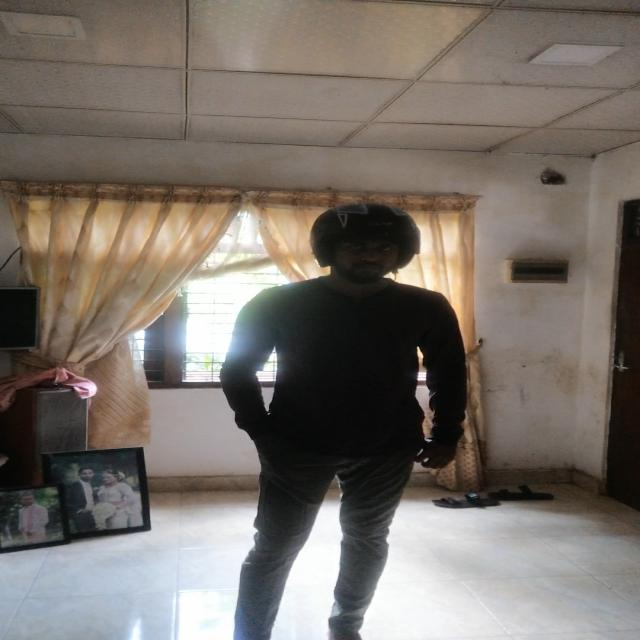Helmet_Wearer: (284, 194, 450, 290)
Person: (227, 191, 486, 627)
